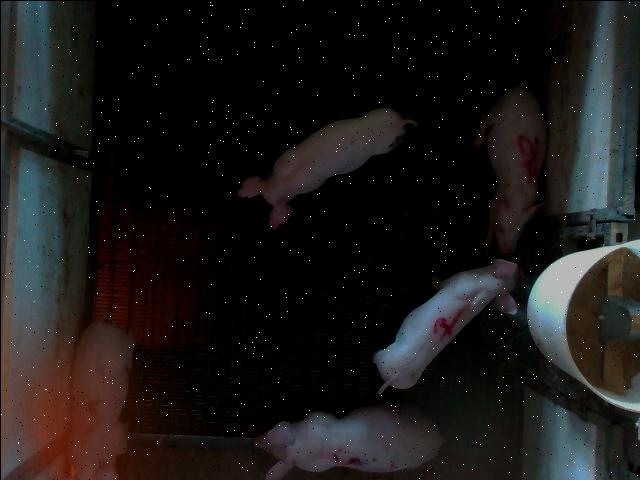pig-2: (68, 319, 134, 479)
pig-3: (254, 405, 442, 479)
pig-4: (372, 258, 521, 392)
pig-5: (471, 76, 546, 252)
